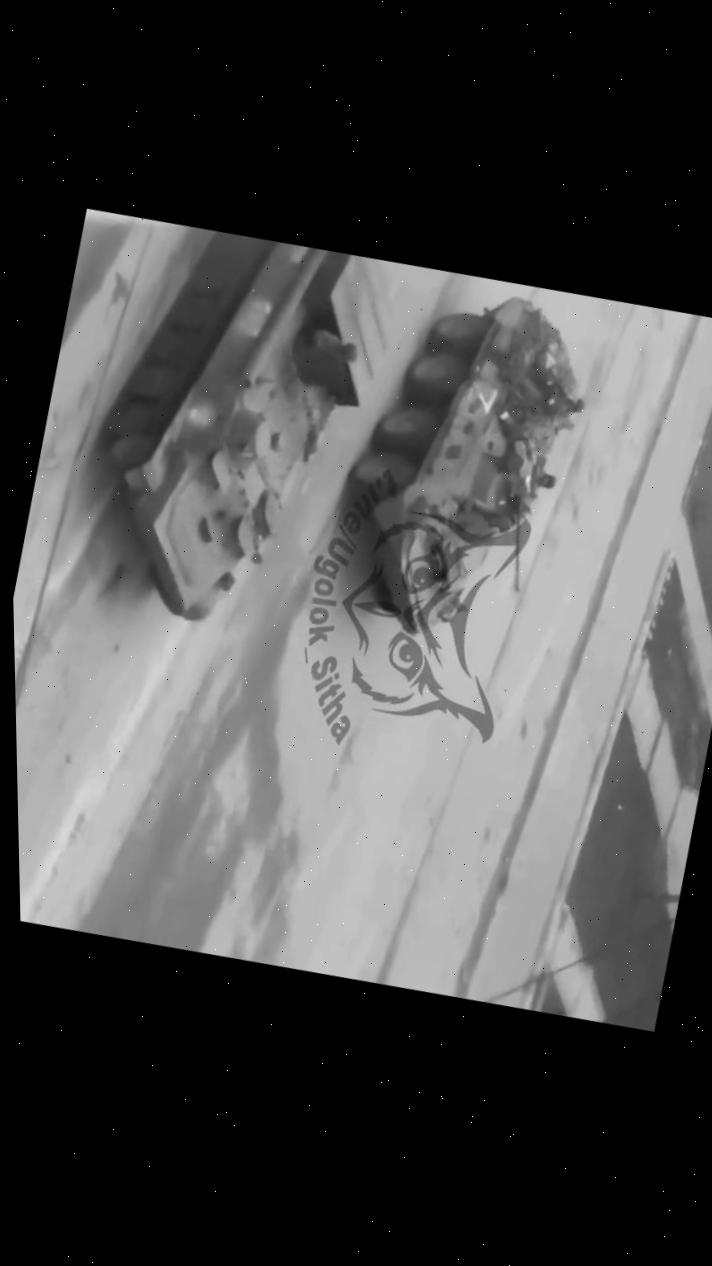person: (473, 354, 590, 425), (289, 317, 365, 373), (509, 443, 566, 491)
tank: (48, 206, 404, 662), (327, 262, 610, 649)
